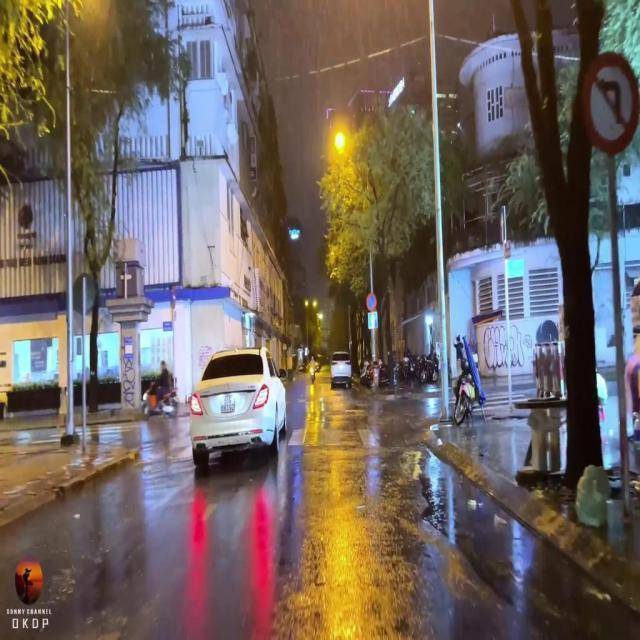123a-cam-re-trai: (581, 50, 640, 156)
407a-duong-mot-chieu: (368, 312, 378, 330)
